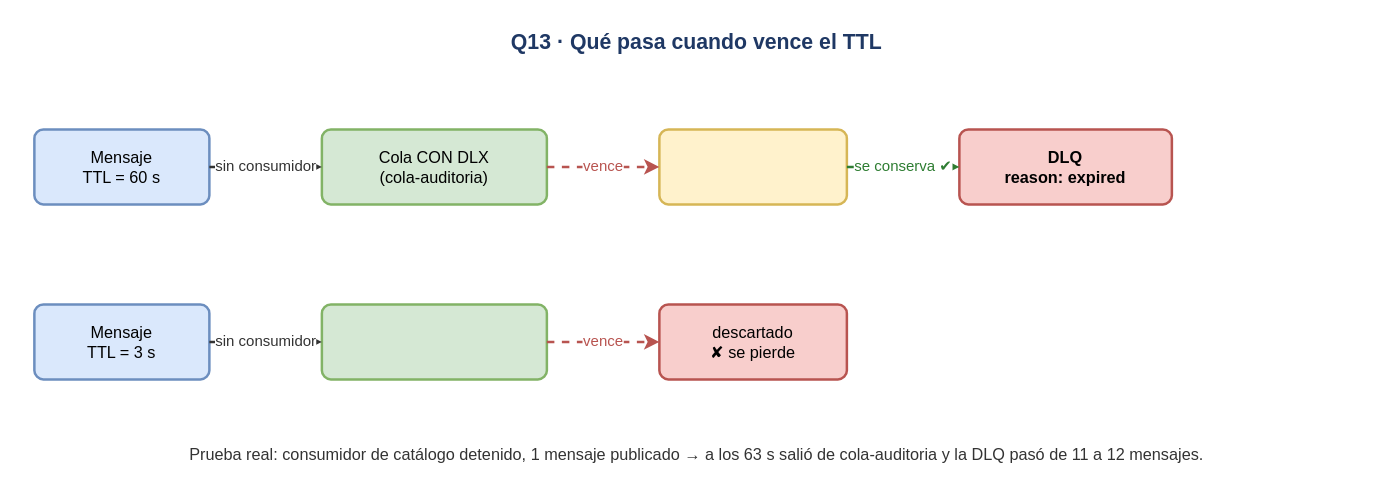
This 1393x500 diagram has some shape labels left out. Here are the shapes that lost their labels. From the top down, the centre of each, then its label:
At (753,166): "DLX campuslab.dlx".
At (434,341): "Cola SIN DLX (demo-ttl-sin-dlx)".
